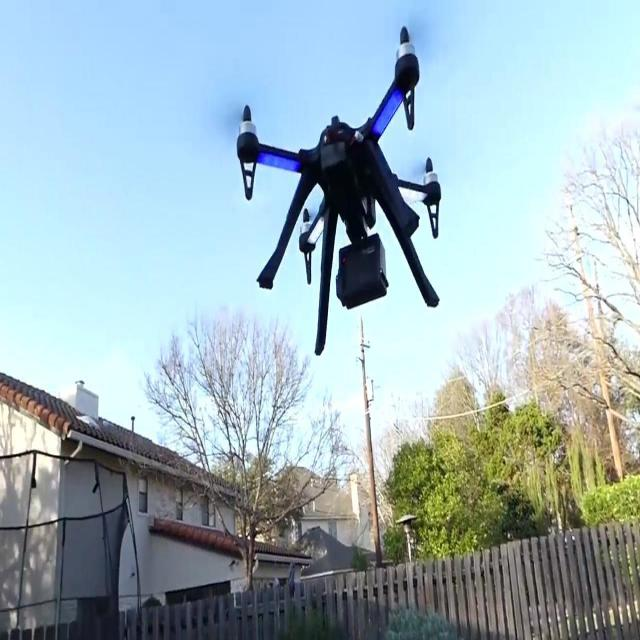UAV: (220, 19, 442, 359)
